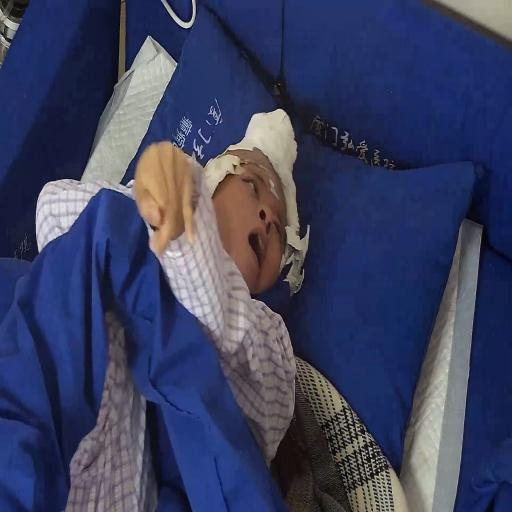Seizure: (206, 124, 293, 294)
